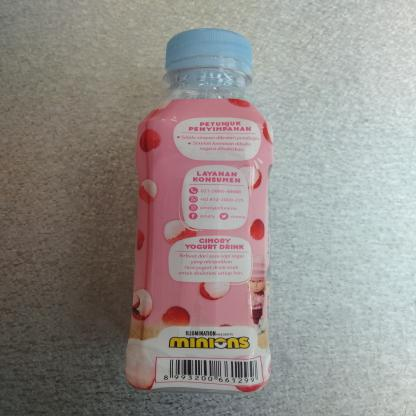plastic: (122, 25, 274, 397)
